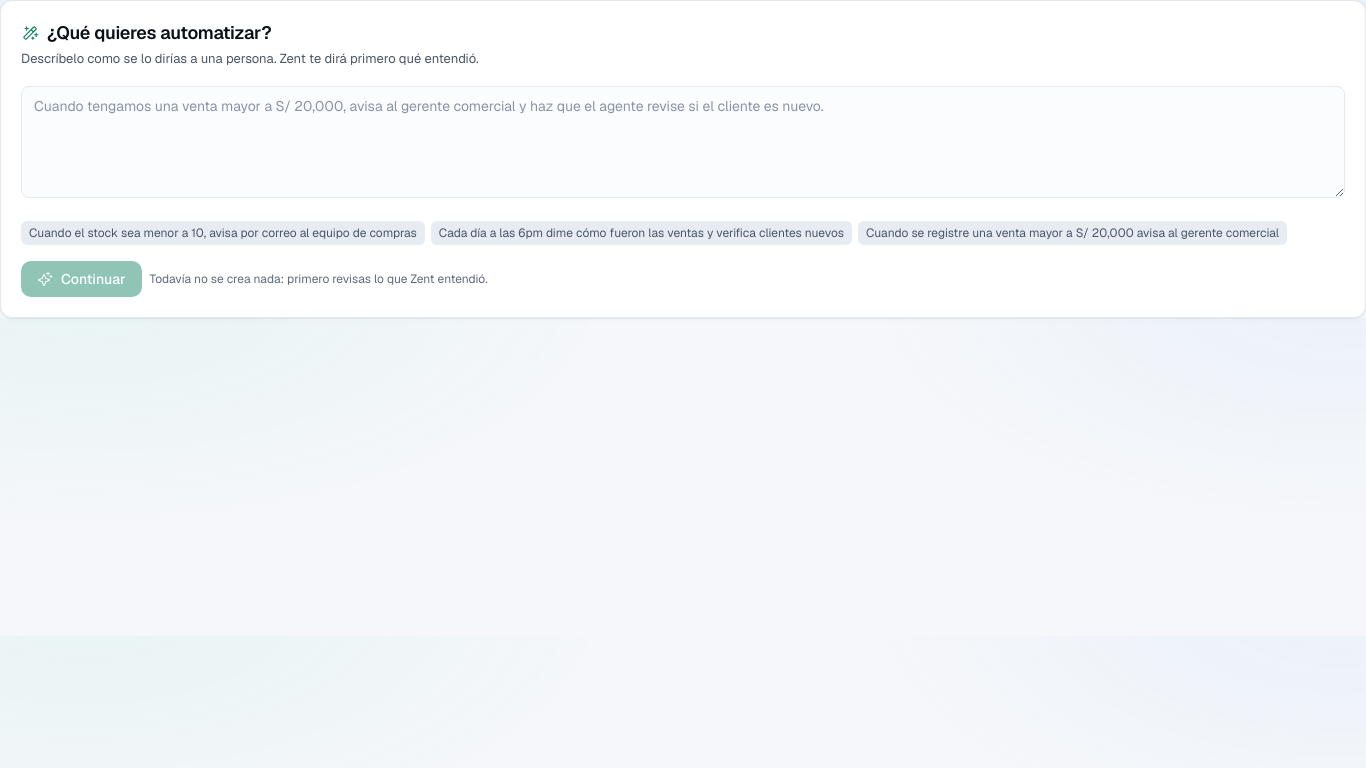
Test: AskZent › muestra la interpretación de negocio antes de crear nada
The image size is (1366, 768).
In the text box with test id "ask-prompt": (683,142) [21,86,1345,198], type "Cuando el stock sea menor a 10 avisa por correo al equipo de compras"
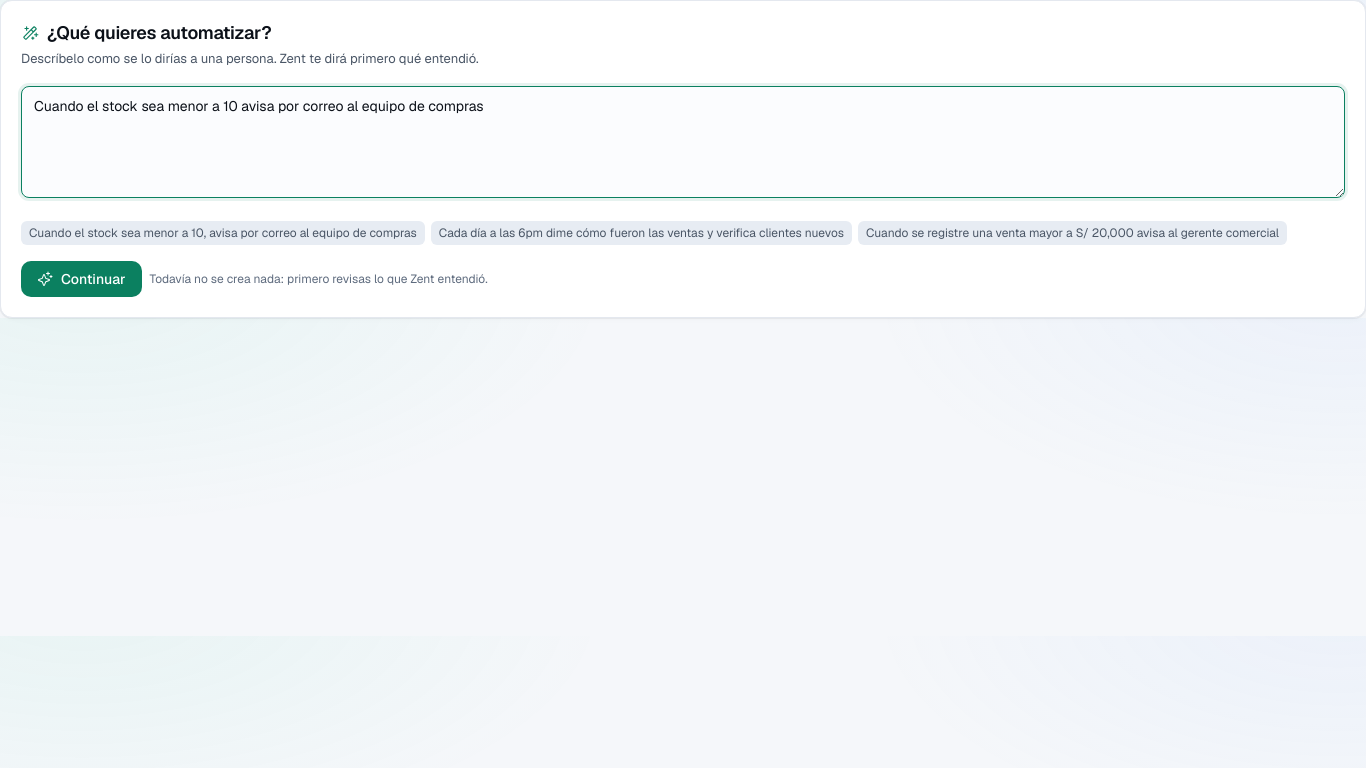
Click the button with test id "ask-submit": (81,278) [21,260,142,296]
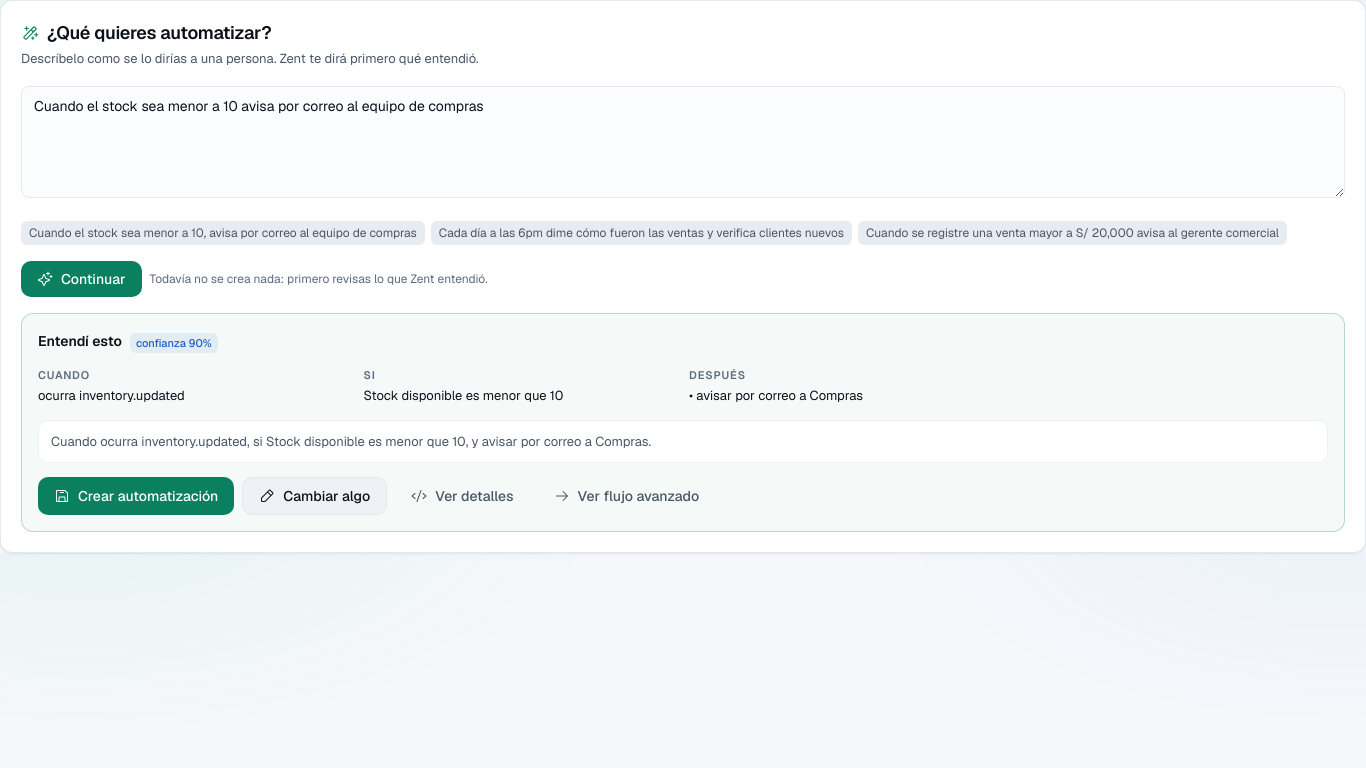
Expected: the element with test id "ask-understanding" is shown, [21,312,1345,532]
Expected: the text "CUANDO" is shown, [38,368,90,382]
Expected: the text "SI" is shown, [364,368,376,382]
